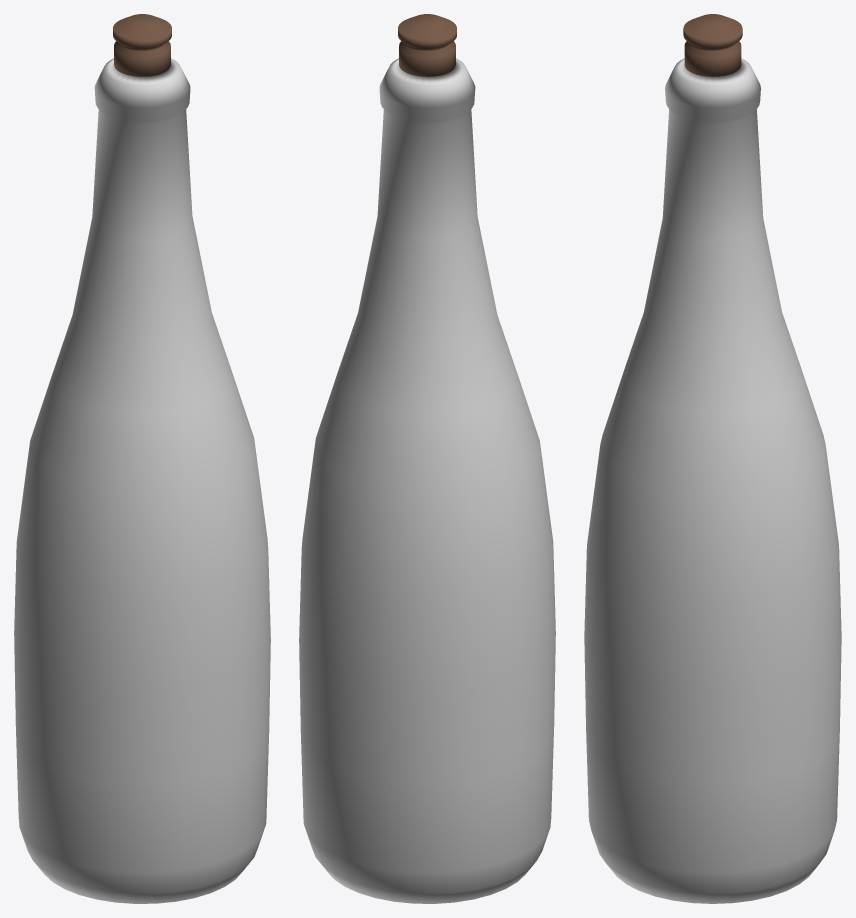
The model's file is flaskepost1.glb.
3 renders of one model, left to right at view 1: azimuth 30°, elevation 25°; view 2: azimuth 150°, elevation 25°; view 3: azimuth 270°, elevation 25°, orthographic.
Visible parts, largest first — view 1: Circle; view 2: Circle; view 3: Circle.
Part boxes in pixels (x1,y1,x2,y2): Circle: [14, 14, 270, 903]; Circle: [299, 14, 555, 903]; Circle: [584, 14, 841, 903].
Bounding box in the file's own units: 1.32 × 4.81 × 1.32.
